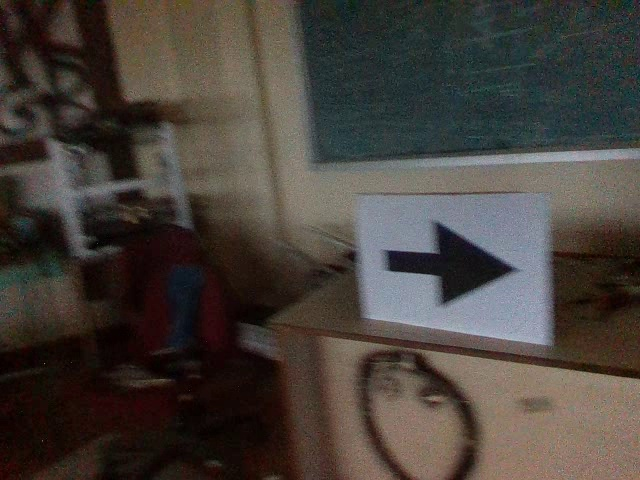Right: (379, 214, 518, 315)
